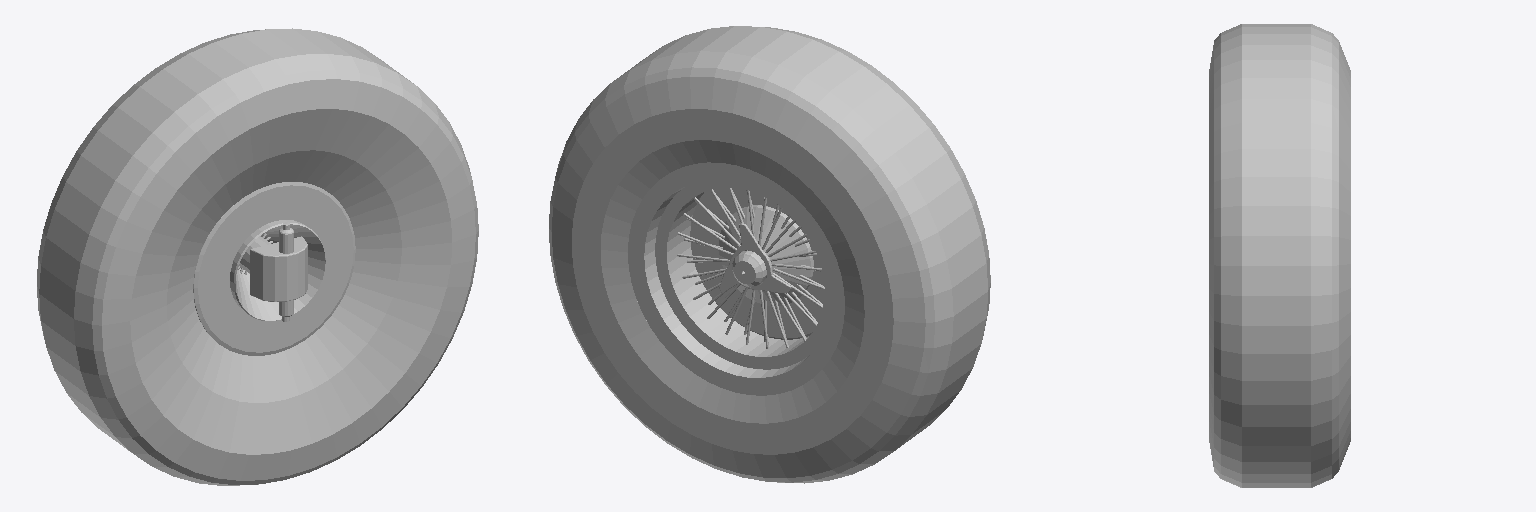
Rendered from wheel2.obj.
The picture shows the model from 3 angles: view 1: azimuth 30°, elevation 25°; view 2: azimuth 150°, elevation 25°; view 3: azimuth 270°, elevation 25°; orthographic projection.
Parts seen in each view (by area): view 1: Back_Tire_Rubber_Low, Back_Tire_Plate_Low, Compresssor_Back_Low, Back_Big_Tire_Support_Nail_Low; view 2: Back_Tire_Rubber_Low, Back_Tire_Metal_Rim_Low, Back_Tire_Plate_Low, Back_Alloys_Low, Back_Triangle_Low, Pole_Back_Low; view 3: Back_Tire_Rubber_Low.
Boxes of the visible parts, box(x1,y1,x2,y2) form: Back_Tire_Rubber_Low: box(37, 28, 478, 485); Back_Tire_Plate_Low: box(193, 182, 355, 355); Compresssor_Back_Low: box(250, 236, 307, 301); Back_Big_Tire_Support_Nail_Low: box(279, 222, 293, 321); Back_Tire_Rubber_Low: box(549, 26, 990, 483); Back_Tire_Metal_Rim_Low: box(628, 162, 844, 395); Back_Tire_Plate_Low: box(690, 187, 824, 339); Back_Alloys_Low: box(677, 188, 824, 348); Back_Triangle_Low: box(719, 223, 791, 293); Pole_Back_Low: box(732, 250, 771, 287); Back_Tire_Rubber_Low: box(1209, 24, 1350, 487).
Bounding box in the file's own units: 0.3903 × 0.3903 × 0.1188.